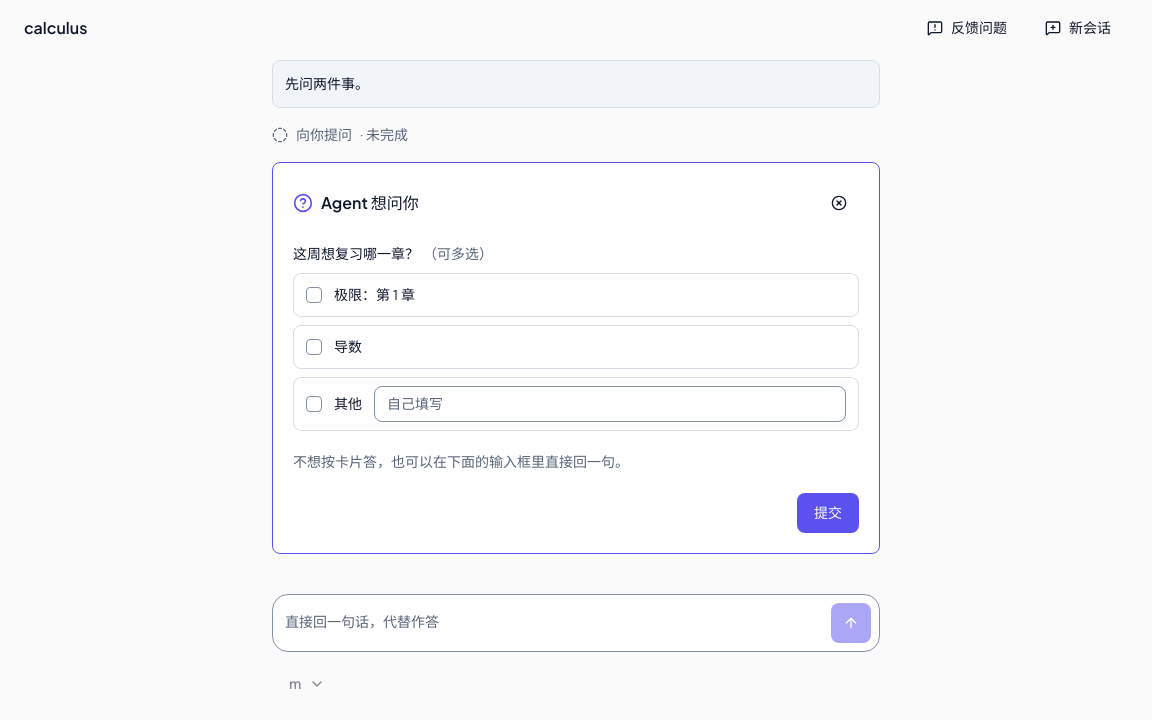
多选可以同时选几项和其他，后端接受时附的说明显示在回答下面
(page scrolled)
Check: the text "先问两件事。" is shown, box [285,74,369,93]
Step 1. Click the checkbox named "导数" next to "导数" → x=314, y=347, box [306,339,322,355]
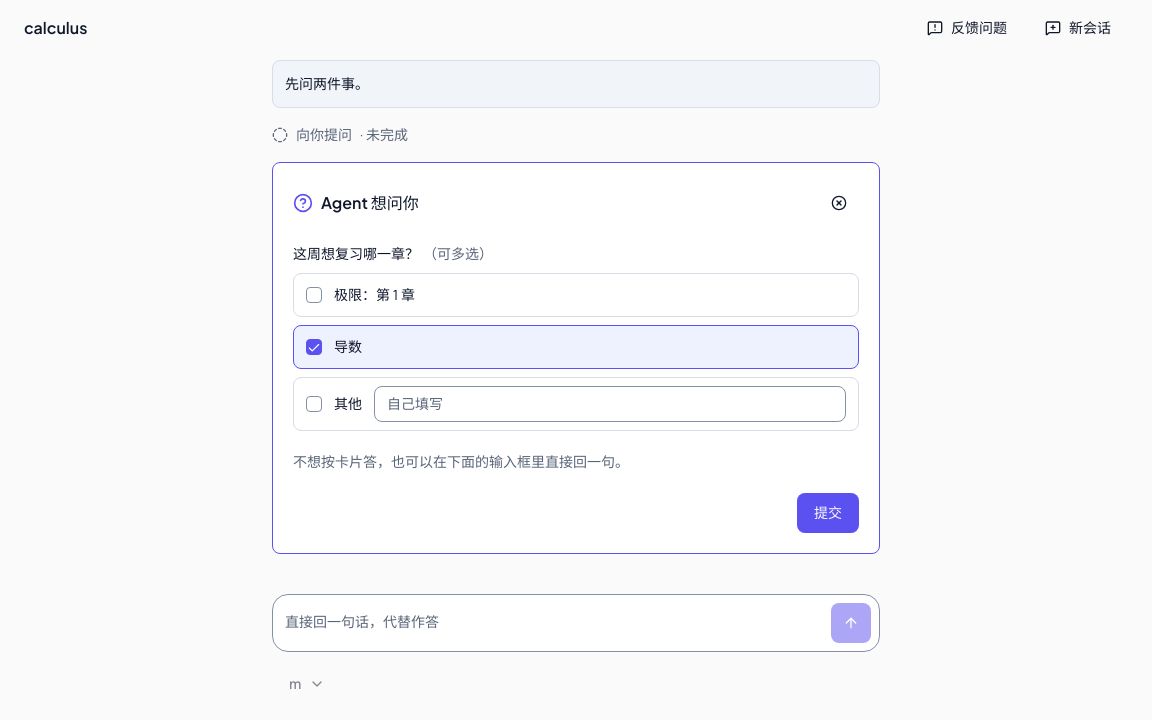
Step 2. Click the checkbox named "极限：第 1 章" next to "极限" → x=314, y=295, box [306,287,322,303]
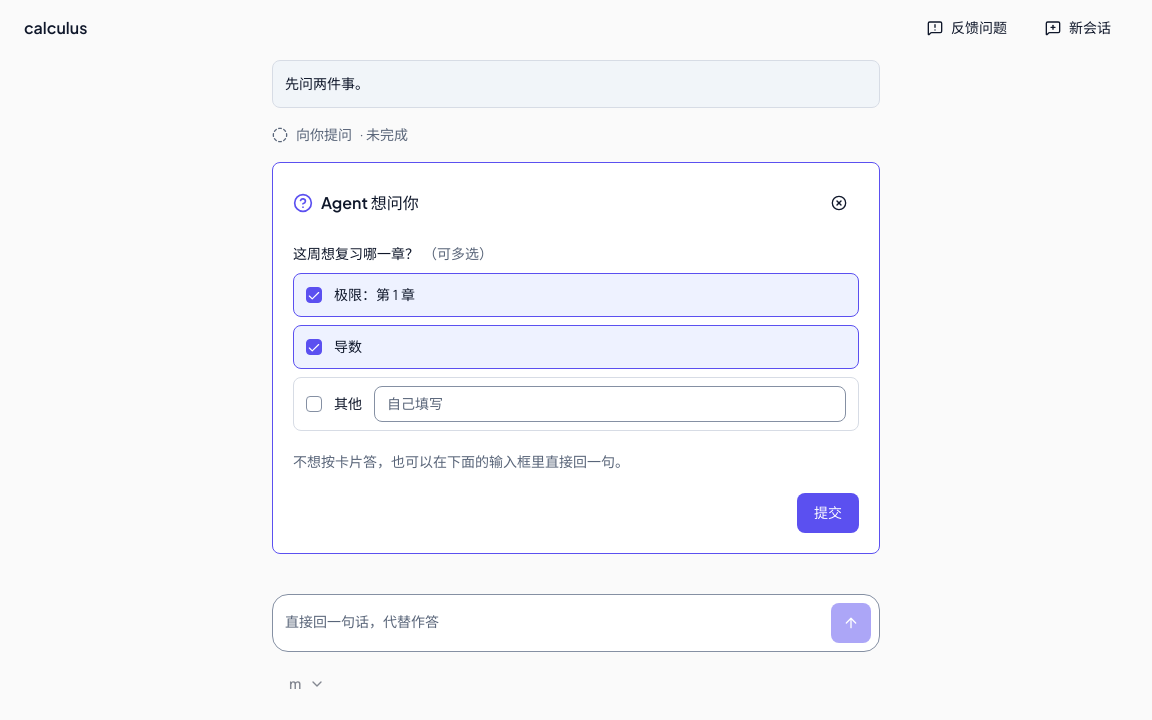
Step 3. Type "错题本" into the field named "其他：自己填写" → x=610, y=404, box [374,386,846,422]
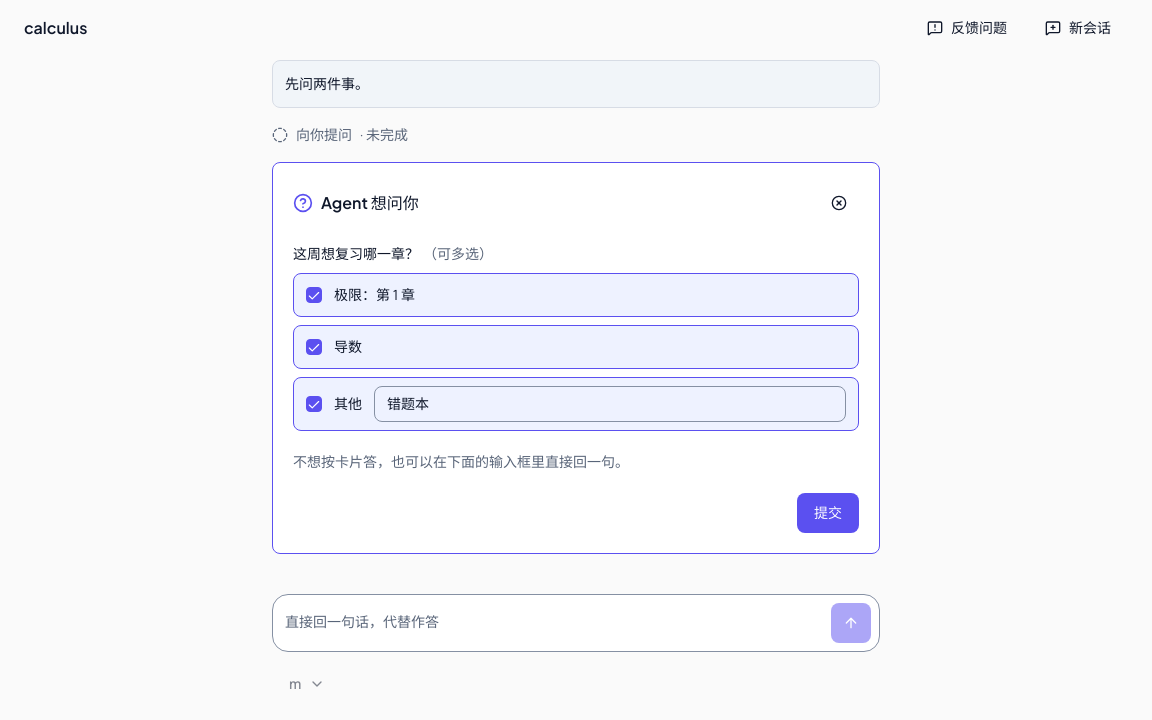
Step 4. Click the button "提交" → x=828, y=513, box [797,493,859,533]
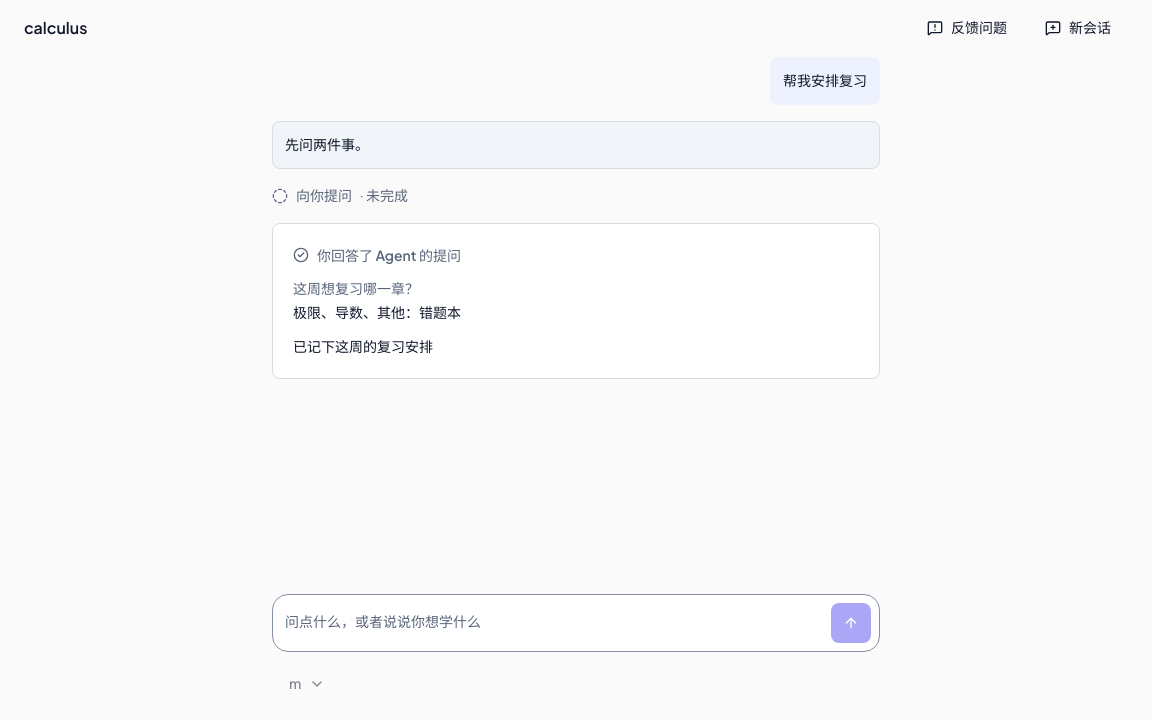
Check: the text "极限、导数、其他：错题本" is shown, box [293,303,461,322]
